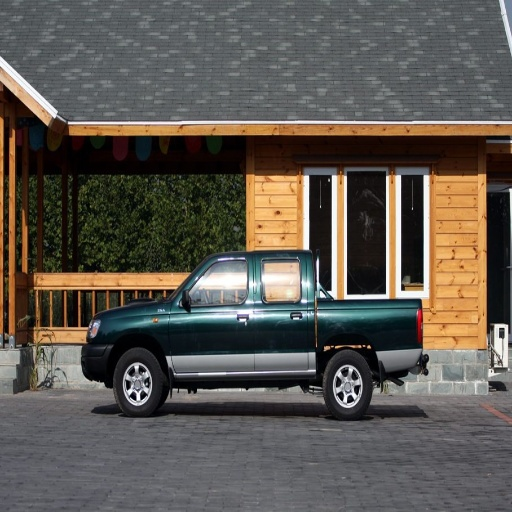back_glass: (377, 1, 494, 74)
back_left_door: (250, 299, 292, 368)
trunk: (288, 301, 420, 381)
